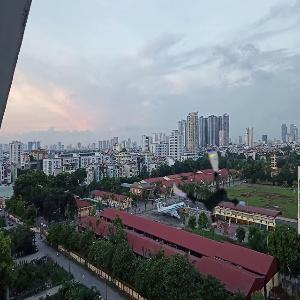drone: (173, 151, 249, 227)
